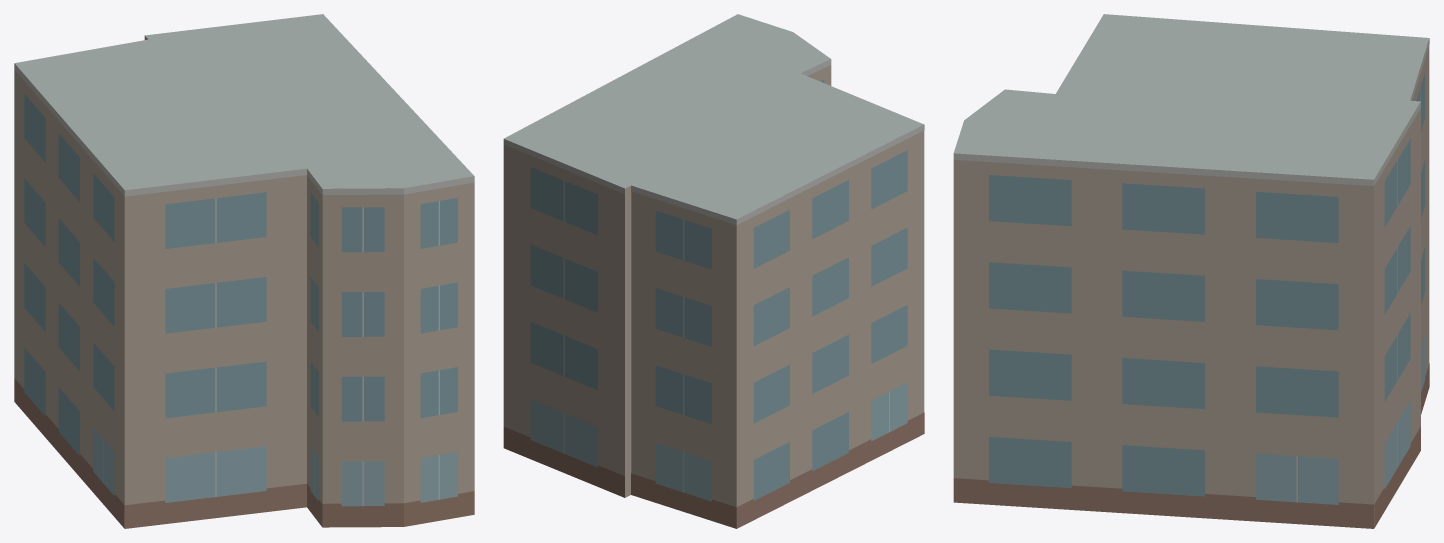
Rendered from survey-upis-32690089.glb.
3 views of the same model, side by side, from view 1: azimuth 30°, elevation 25°; view 2: azimuth 150°, elevation 25°; view 3: azimuth 270°, elevation 25° (orthographic). The views are drawn at different scales.
Visible parts, largest first — view 1: survey-upis-32690089.tmp; view 2: survey-upis-32690089.tmp; view 3: survey-upis-32690089.tmp.
Part boxes in pixels (x1=…): survey-upis-32690089.tmp: x1=14, y1=14, x2=474, y2=528; survey-upis-32690089.tmp: x1=503, y1=14, x2=924, y2=528; survey-upis-32690089.tmp: x1=953, y1=14, x2=1429, y2=528.
Bounding box in the file's own units: 13.45 × 13.2 × 16.32.
